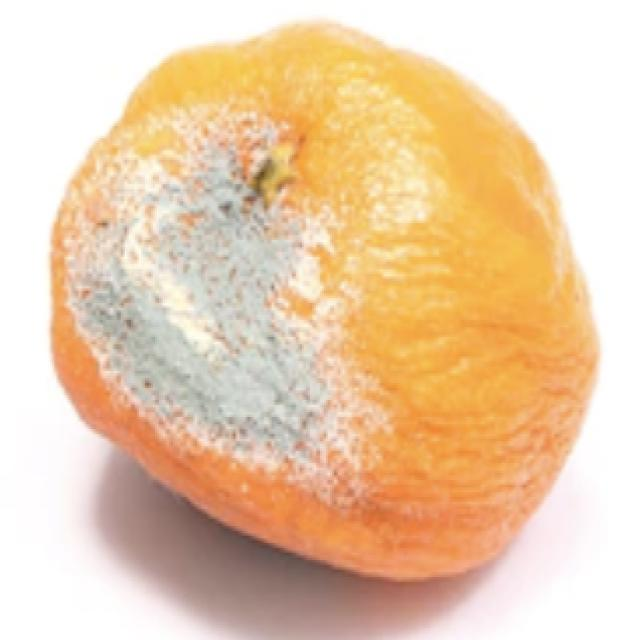rotten-orange: (45, 19, 599, 586)
